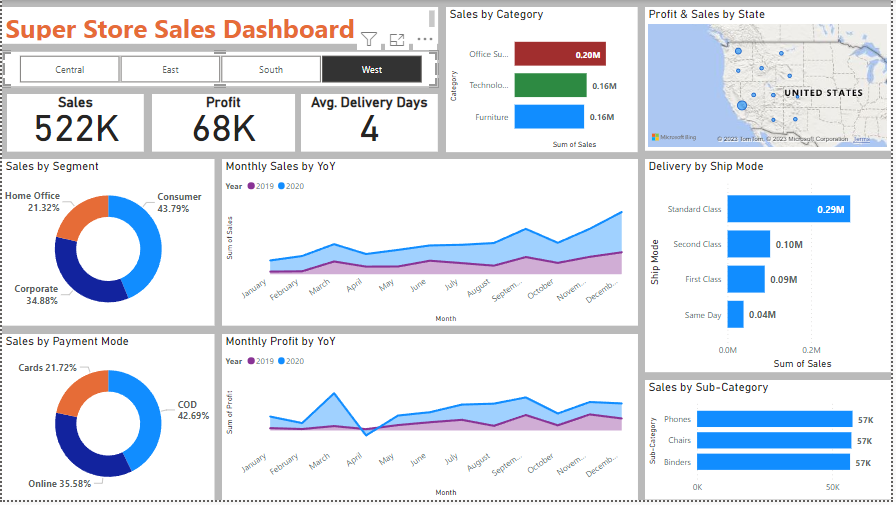

What the dashboard file says about the page in this screenshot:
{"tool":"powerbi","page":{"name":"Page 1","canvas":[1280,720],"ordinal":0},"visuals":[{"type":"clusteredBarChart","title":"Sales by Category","fields":{"Category":["Sheet1.Category"],"Y":["Sum(Sheet1.Sales)"]},"box":[639.4,10.1,276.5,208.8],"z":0},{"type":"clusteredBarChart","title":"Sales by Sub-Category","fields":{"Category":["Sheet1.Sub-Category"],"Y":["Sum(Sheet1.Sales)"]},"box":[925.5,547.5,355,172.5],"z":1000},{"type":"clusteredBarChart","title":"Delivery by Ship Mode","fields":{"Category":["Sheet1.Ship Mode"],"Y":["Sum(Sheet1.Sales)"]},"box":[925.9,229,354.2,306.7],"z":2000},{"type":"stackedAreaChart","title":"Monthly Sales by YoY","fields":{"Category":["Sheet1.Order Date.Variation.Date Hierarchy.Month"],"Y":["Sum(Sheet1.Sales)"],"Series":["Sheet1.Order Date.Variation.Date Hierarchy.Year"]},"box":[316.2,228.5,599.3,240],"z":3000},{"type":"stackedAreaChart","title":"Monthly Profit by YoY","fields":{"Category":["Sheet1.Order Date.Variation.Date Hierarchy.Month"],"Series":["Sheet1.Order Date.Variation.Date Hierarchy.Year"],"Y":["Sum(Sheet1.Profit)"]},"box":[316.2,481.4,599.3,238.6],"z":4000},{"type":"donutChart","title":"Sales by Payment Mode","fields":{"Category":["Sheet1.Payment Mode"],"Y":["Sum(Sheet1.Sales)"]},"box":[0,481.4,306.1,238.6],"z":5000},{"type":"donutChart","title":"Sales by Segment","fields":{"Category":["Sheet1.Segment"],"Y":["Sum(Sheet1.Sales)"]},"box":[0,228.5,306.1,240],"z":6000},{"type":"textbox","box":[0,10.1,627.8,53.3],"z":7000},{"type":"slicer","fields":{"Values":["Sheet1.Region"]},"box":[0,73.3,628,51.7],"z":8000},{"type":"card","title":"Sales","fields":{"Values":["Sum(Sheet1.Sales)"]},"box":[7.2,135.1,196.9,83.4],"z":9000},{"type":"card","title":"Profit","fields":{"Values":["Sum(Sheet1.Profit)"]},"box":[215.6,135.1,205.5,83.4],"z":10000},{"type":"card","title":"Avg. Delivery Days","fields":{"Values":["Avg(Sheet1.ADT)"]},"box":[431.1,135.1,196.9,83.4],"z":11000},{"type":"map","title":"Profit & Sales by State","fields":{"Size":["Sum(Sheet1.Profit)"],"Category":["Sheet1.State"]},"box":[925.9,10.1,354.2,207.4],"z":11001}]}

Visuals, with their boxes in screenshot pixels (x1, y1, x2, y2), scaled from the page's 1280x720 canvas onto the 896x505 screenshot:
"Sales by Category" clusteredBarChart: left=448, top=7, right=641, bottom=154
"Sales by Sub-Category" clusteredBarChart: left=648, top=384, right=895, bottom=504
"Delivery by Ship Mode" clusteredBarChart: left=648, top=161, right=895, bottom=376
"Monthly Sales by YoY" stackedAreaChart: left=221, top=160, right=641, bottom=329
"Monthly Profit by YoY" stackedAreaChart: left=221, top=338, right=641, bottom=504
"Sales by Payment Mode" donutChart: left=0, top=338, right=214, bottom=504
"Sales by Segment" donutChart: left=0, top=160, right=214, bottom=329
textbox: left=0, top=7, right=439, bottom=44
slicer - Sheet1.Region: left=0, top=51, right=440, bottom=88
"Sales" card: left=5, top=95, right=143, bottom=153
"Profit" card: left=151, top=95, right=295, bottom=153
"Avg. Delivery Days" card: left=302, top=95, right=440, bottom=153
"Profit & Sales by State" map: left=648, top=7, right=895, bottom=153
